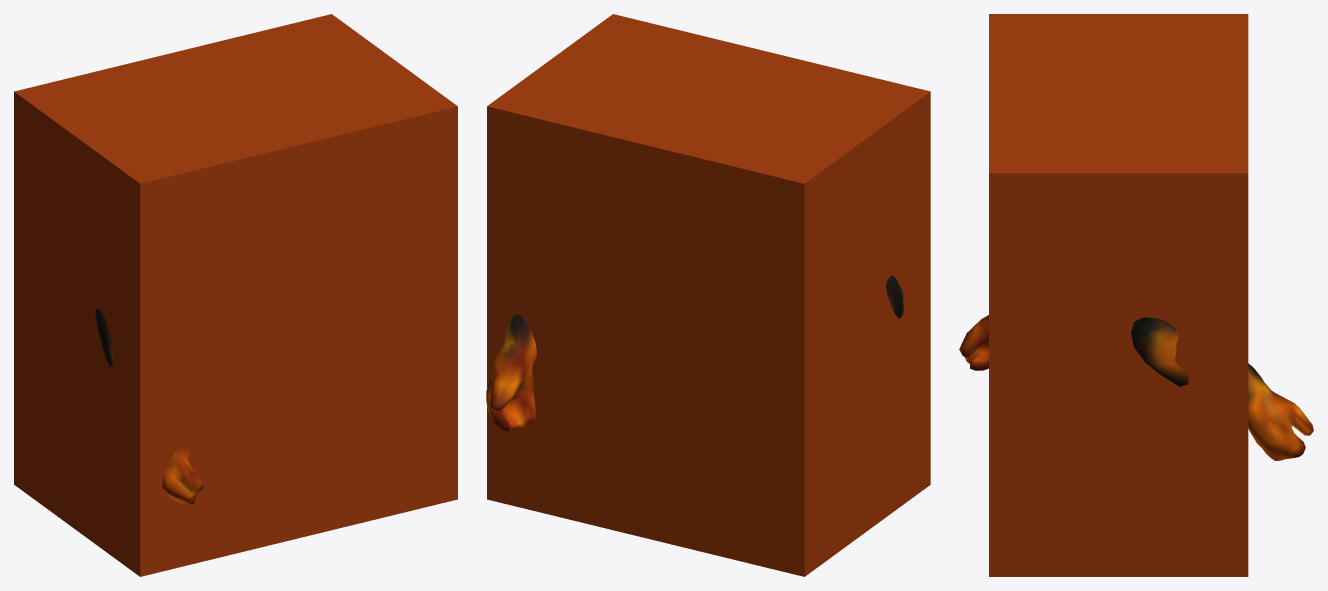
The model's file is MagmaElemental_1_000009.obj.
3 views of the same model, side by side, from view 1: azimuth 30°, elevation 25°; view 2: azimuth 150°, elevation 25°; view 3: azimuth 270°, elevation 25° (orthographic). The views are drawn at different scales.
Parts seen in each view (by area): view 1: Cube, Elemental_FireGolem; view 2: Cube, Elemental_FireGolem; view 3: Cube, Elemental_FireGolem.
Part boxes in pixels (x1=…): Cube: x1=14, y1=14, x2=457, y2=576; Elemental_FireGolem: x1=95, y1=309, x2=202, y2=504; Cube: x1=487, y1=14, x2=930, y2=576; Elemental_FireGolem: x1=486, y1=275, x2=904, y2=431; Cube: x1=989, y1=14, x2=1248, y2=576; Elemental_FireGolem: x1=959, y1=315, x2=1313, y2=460.
Bounding box in the file's own units: 3.37 × 3.92 × 3.1.
Materials: 2 (1 with a texture image).
